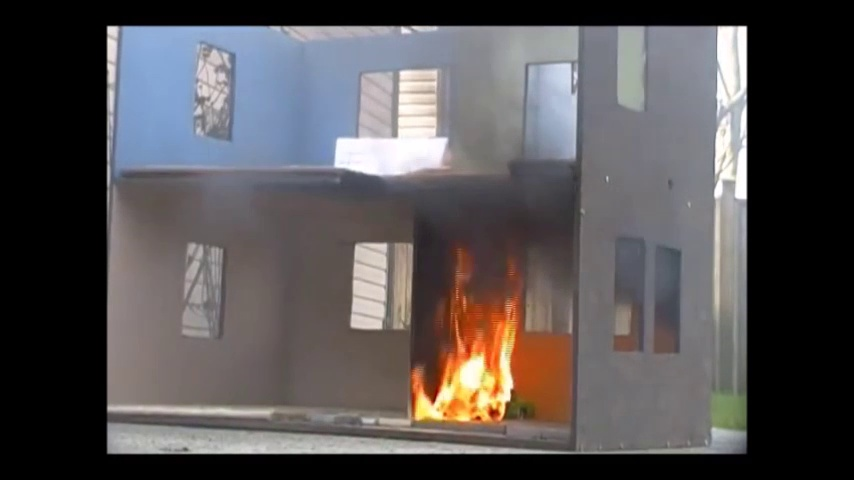fire: (414, 297, 517, 422)
